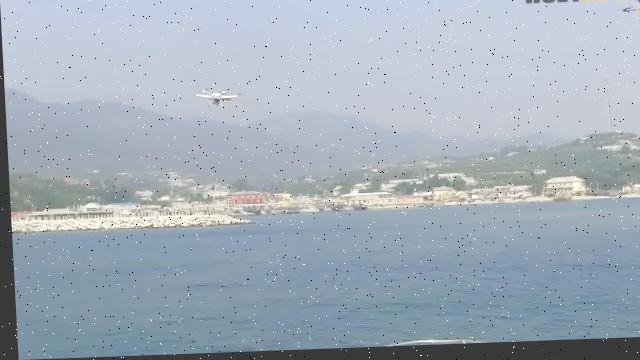drone: (189, 83, 244, 113)
